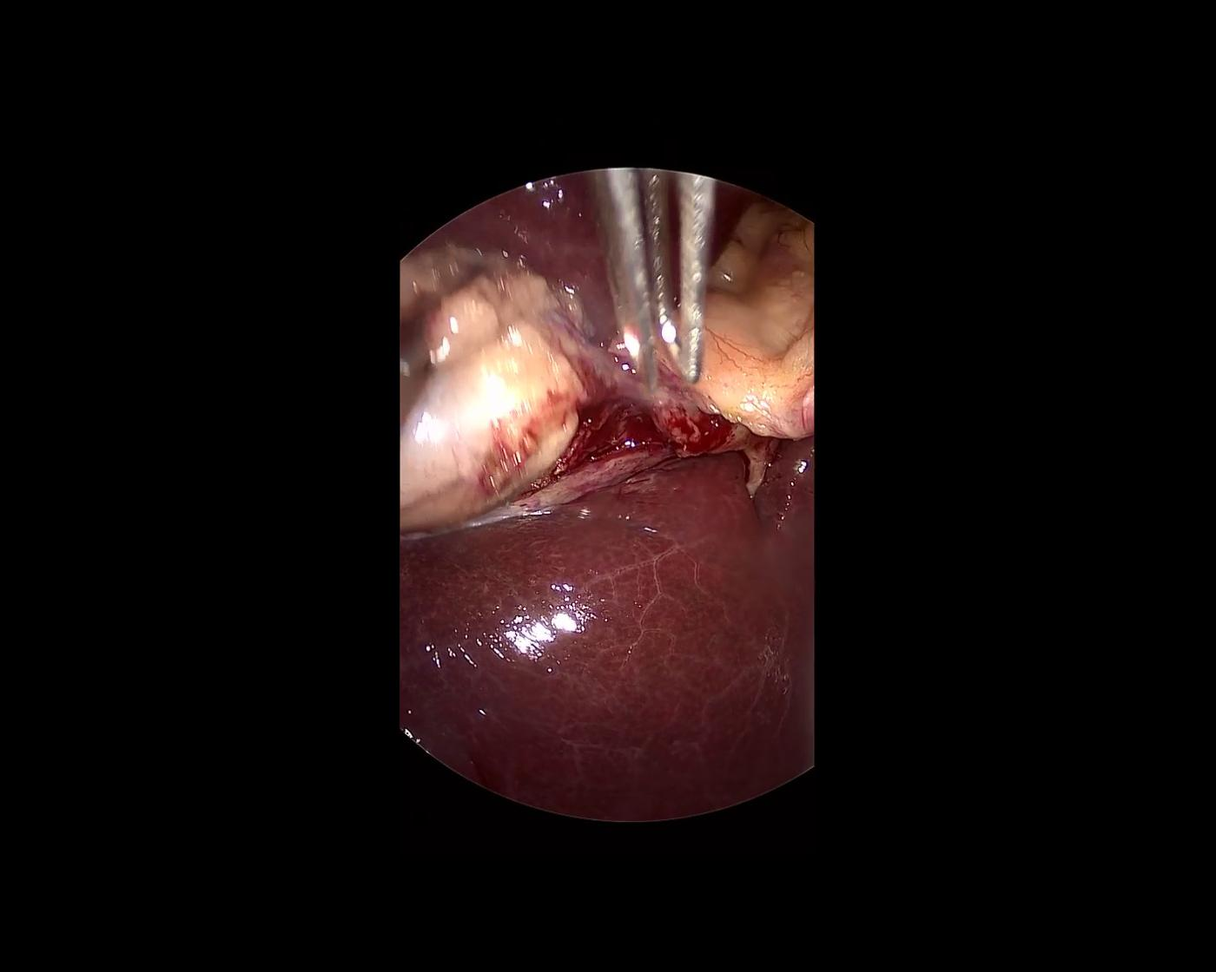Forceps: (592, 168, 714, 395)
Gallbladder: (401, 238, 583, 531)
Liver: (402, 438, 815, 818), (404, 86, 755, 394)
